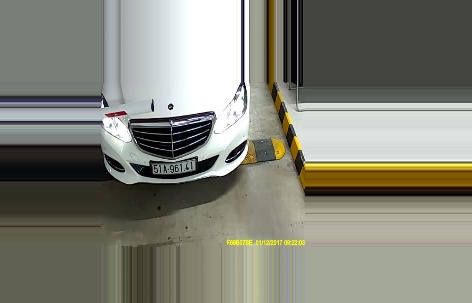plate: (148, 158, 199, 176)
